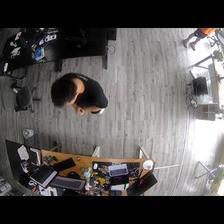normal: (51, 71, 108, 115), (183, 28, 215, 50)
